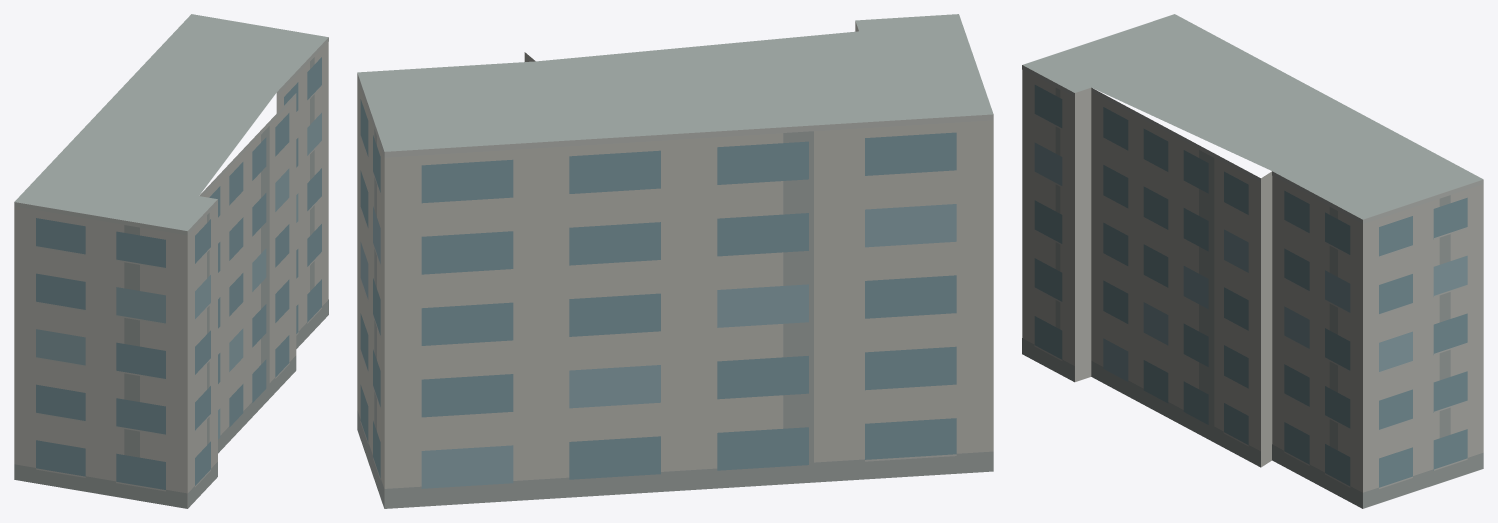
Rendered from residential-cd8d6dfb-de2f-42b6-b64d-4defe6bebf0c.glb.
3 views of the same model, side by side, from view 1: azimuth 30°, elevation 25°; view 2: azimuth 150°, elevation 25°; view 3: azimuth 270°, elevation 25° (orthographic). The views are drawn at different scales.
Parts seen in each view (by area): view 1: residential-cd8d6dfb-de2f-42b6-b64d-4defe6bebf0c.tmp; view 2: residential-cd8d6dfb-de2f-42b6-b64d-4defe6bebf0c.tmp; view 3: residential-cd8d6dfb-de2f-42b6-b64d-4defe6bebf0c.tmp.
Part boxes in pixels (x1,y1,x2,y2): residential-cd8d6dfb-de2f-42b6-b64d-4defe6bebf0c.tmp: (14, 14, 328, 508); residential-cd8d6dfb-de2f-42b6-b64d-4defe6bebf0c.tmp: (357, 14, 993, 508); residential-cd8d6dfb-de2f-42b6-b64d-4defe6bebf0c.tmp: (1022, 14, 1483, 508).
Size of the model in its own units: 23.27 by 15.25 by 22.06.
